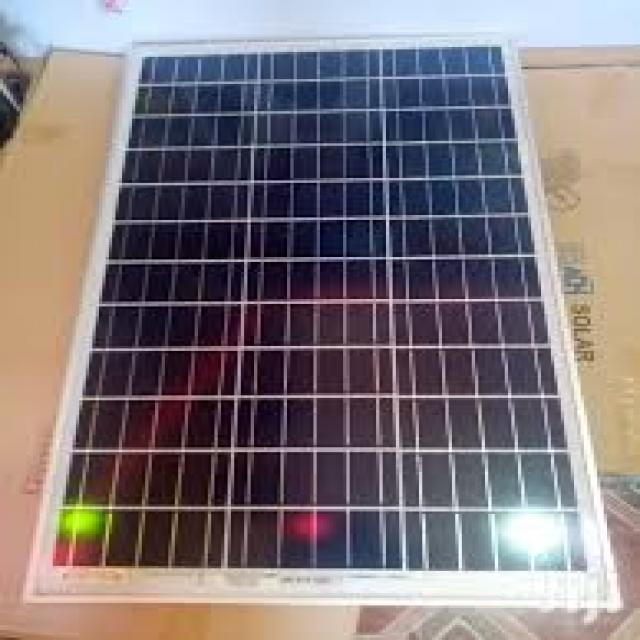no faulty: (104, 58, 524, 538)
